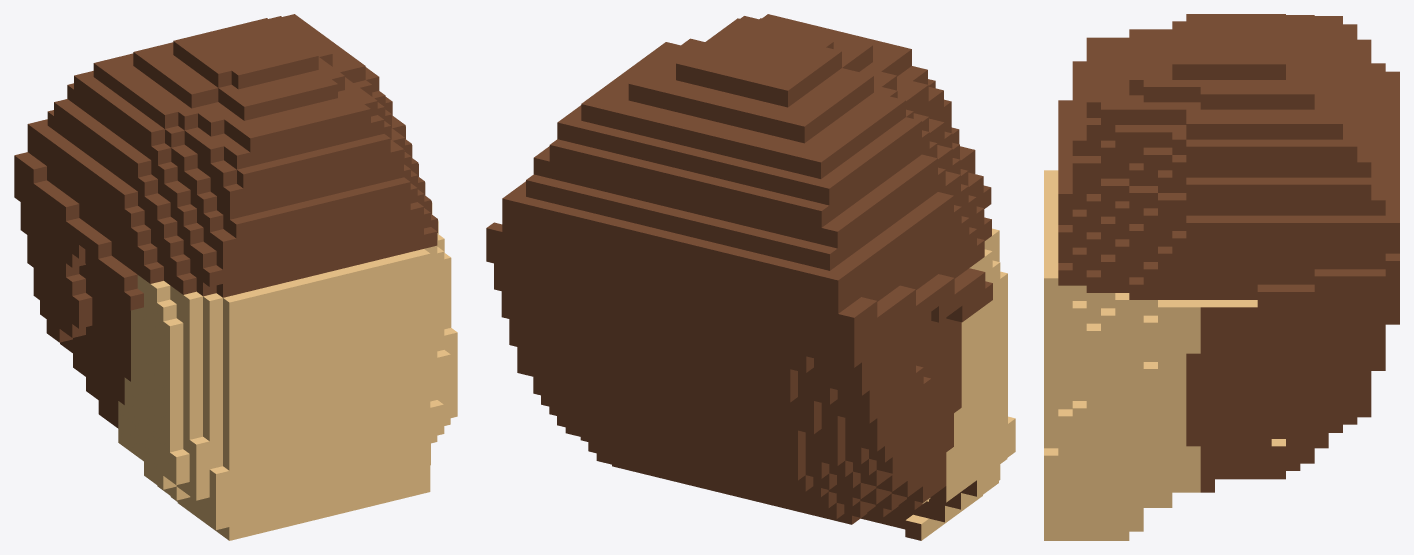
File: VoxelPersonHead.fbx
3 views of the same model, side by side, from view 1: azimuth 30°, elevation 25°; view 2: azimuth 150°, elevation 25°; view 3: azimuth 270°, elevation 25° (orthographic). The views are drawn at different scales.
Visible parts, largest first — view 1: Head; view 2: Head; view 3: Head.
Part boxes in pixels (box(x1,y1,x2,y2)): Head: box(14, 14, 457, 540); Head: box(486, 14, 1015, 540); Head: box(1044, 14, 1399, 540).
Size of the model in its own units: 23.4 by 29.51 by 21.26.
